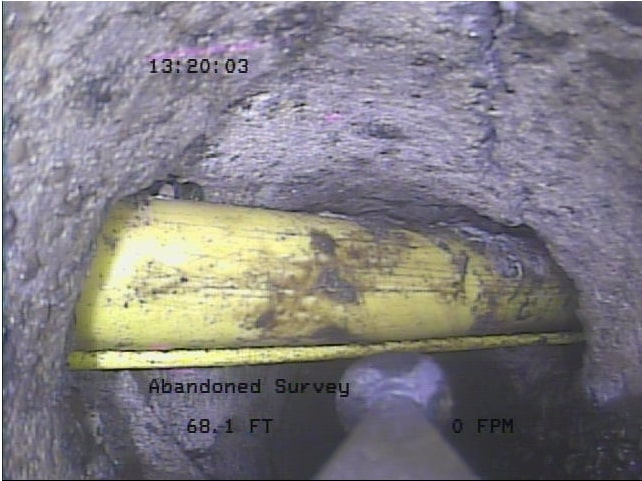cb: (40, 184, 604, 375)
